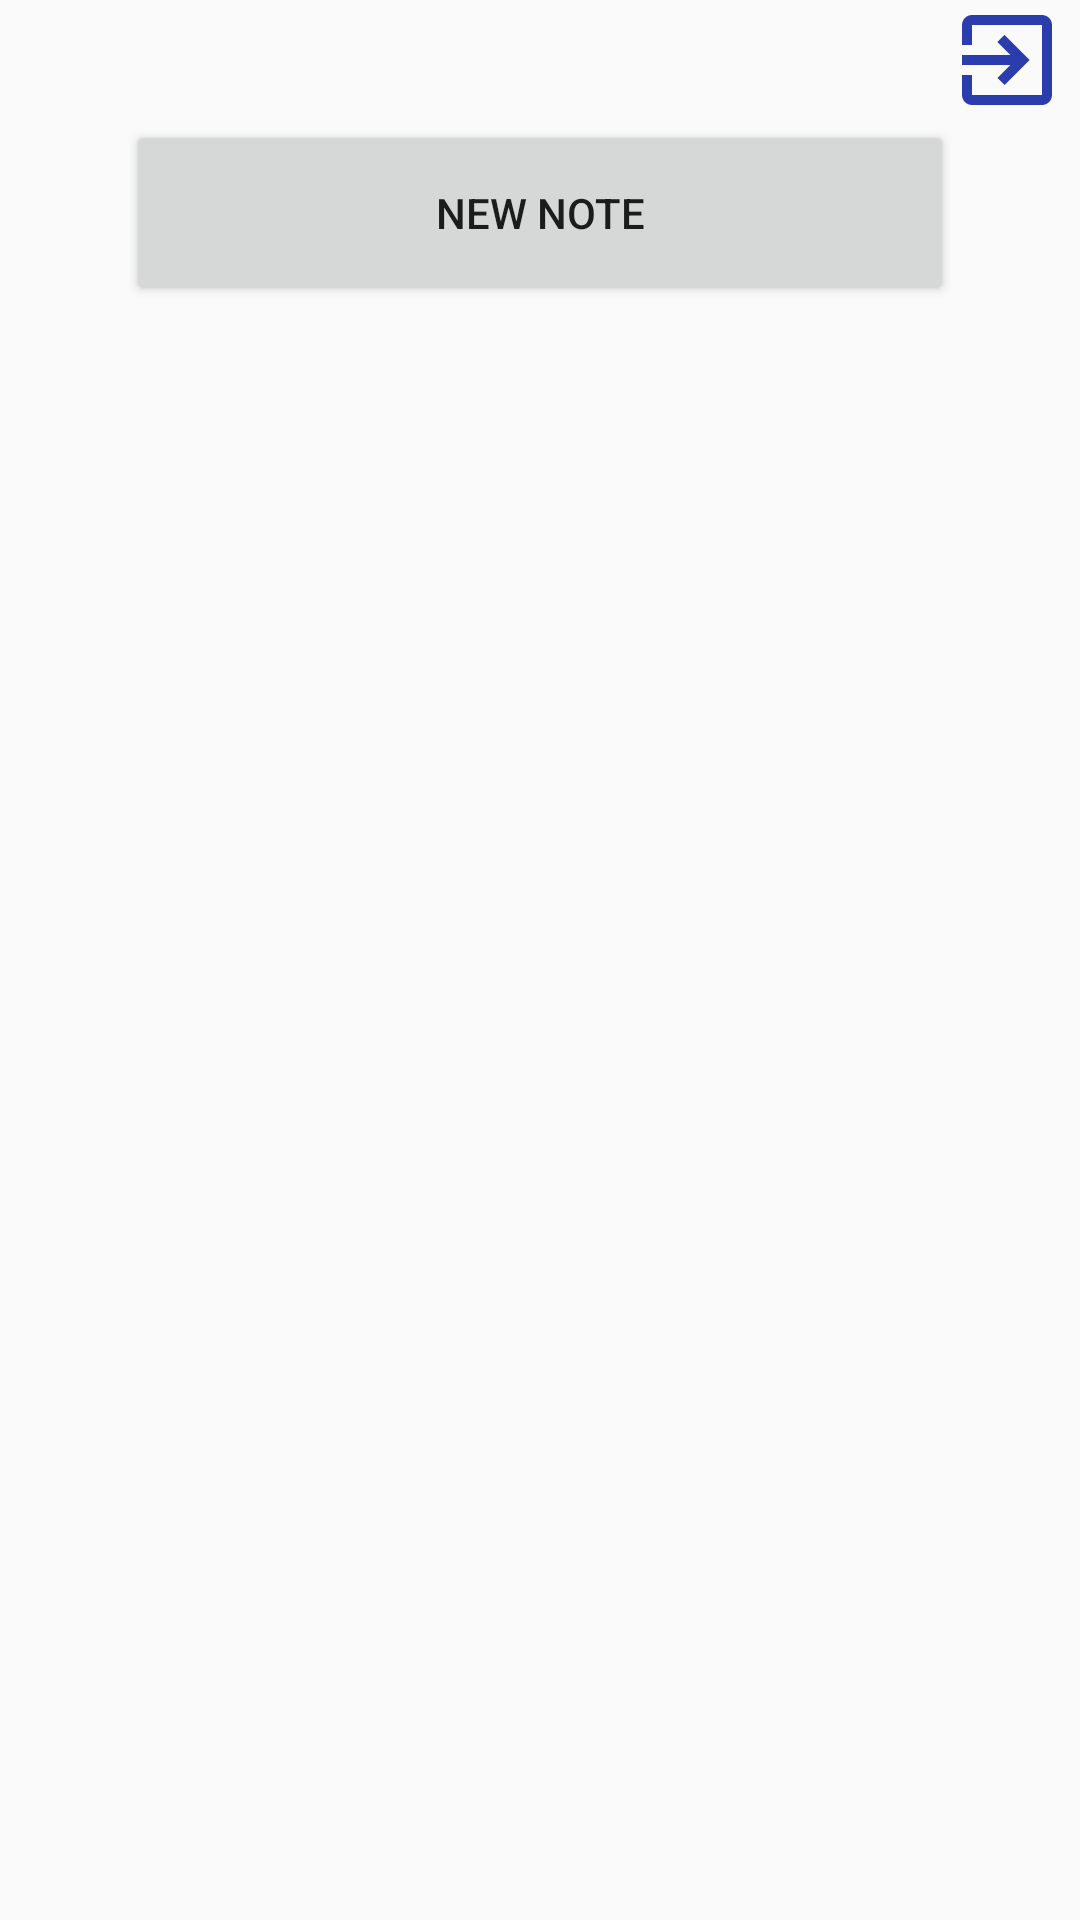

Icons on this 1080w x 1920h Android screen, each with the point to tap as (x,y):
exit to app: (1007,60)
